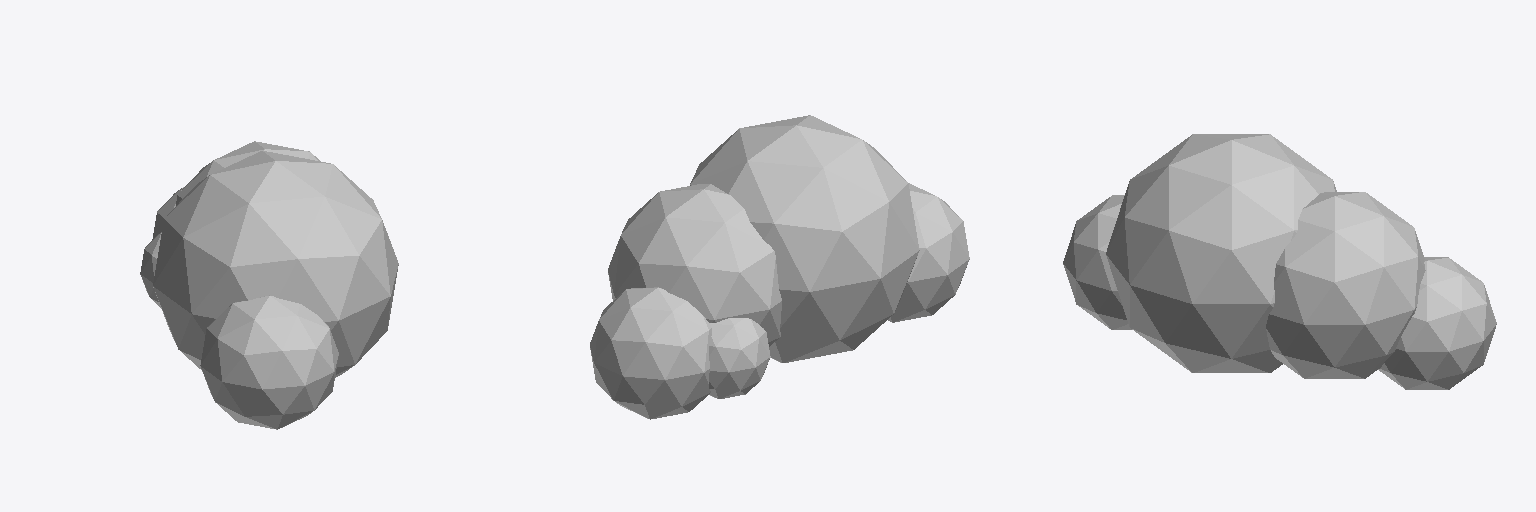
File: cloud_self.obj
3 renders of one model, left to right at view 1: azimuth 30°, elevation 25°; view 2: azimuth 150°, elevation 25°; view 3: azimuth 270°, elevation 25°, orthographic.
Parts seen in each view (by area): view 1: Mesh3 group19 pasted__group16 pasted__pasted__polySurface25 poly, Mesh3 group19 pasted__group16 pasted__pasted__polySurface28 poly, Mesh3 group19 pasted__group16 pasted__pasted__polySurface24 poly, Mesh3 group19 pasted__group16 pasted__pasted__polySurface27 poly; view 2: Mesh3 group19 pasted__group16 pasted__pasted__polySurface25 poly, Mesh3 group19 pasted__group16 pasted__pasted__polySurface24 poly, Mesh3 group19 pasted__group16 pasted__pasted__polySurface29 poly, Mesh3 group19 pasted__group16 pasted__pasted__polySurface28 poly, Mesh3 group19 pasted__group16 pasted__pasted__polySurface27 poly; view 3: Mesh3 group19 pasted__group16 pasted__pasted__polySurface25 poly, Mesh3 group19 pasted__group16 pasted__pasted__polySurface24 poly, Mesh3 group19 pasted__group16 pasted__pasted__polySurface29 poly, Mesh3 group19 pasted__group16 pasted__pasted__polySurface28 poly.
Part boxes in pixels (x1,y1,x2,y2): Mesh3 group19 pasted__group16 pasted__pasted__polySurface25 poly: (153, 151, 398, 377); Mesh3 group19 pasted__group16 pasted__pasted__polySurface28 poly: (200, 295, 338, 429); Mesh3 group19 pasted__group16 pasted__pasted__polySurface24 poly: (176, 141, 319, 205); Mesh3 group19 pasted__group16 pasted__pasted__polySurface27 poly: (140, 232, 161, 307); Mesh3 group19 pasted__group16 pasted__pasted__polySurface25 poly: (690, 115, 919, 362); Mesh3 group19 pasted__group16 pasted__pasted__polySurface24 poly: (608, 184, 781, 346); Mesh3 group19 pasted__group16 pasted__pasted__polySurface29 poly: (590, 287, 711, 419); Mesh3 group19 pasted__group16 pasted__pasted__polySurface28 poly: (888, 183, 969, 322); Mesh3 group19 pasted__group16 pasted__pasted__polySurface27 poly: (709, 318, 770, 398); Mesh3 group19 pasted__group16 pasted__pasted__polySurface25 poly: (1106, 134, 1336, 372); Mesh3 group19 pasted__group16 pasted__pasted__polySurface24 poly: (1266, 192, 1425, 378); Mesh3 group19 pasted__group16 pasted__pasted__polySurface29 poly: (1378, 257, 1496, 389); Mesh3 group19 pasted__group16 pasted__pasted__polySurface28 poly: (1063, 195, 1131, 329).
Size of the model in its own units: 2.28 by 2.11 by 3.64.